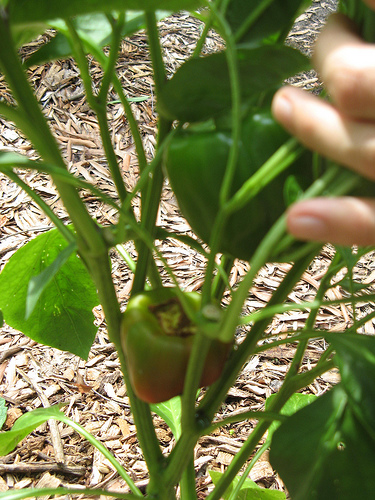capsicum: (163, 116, 326, 261), (116, 286, 227, 406)
